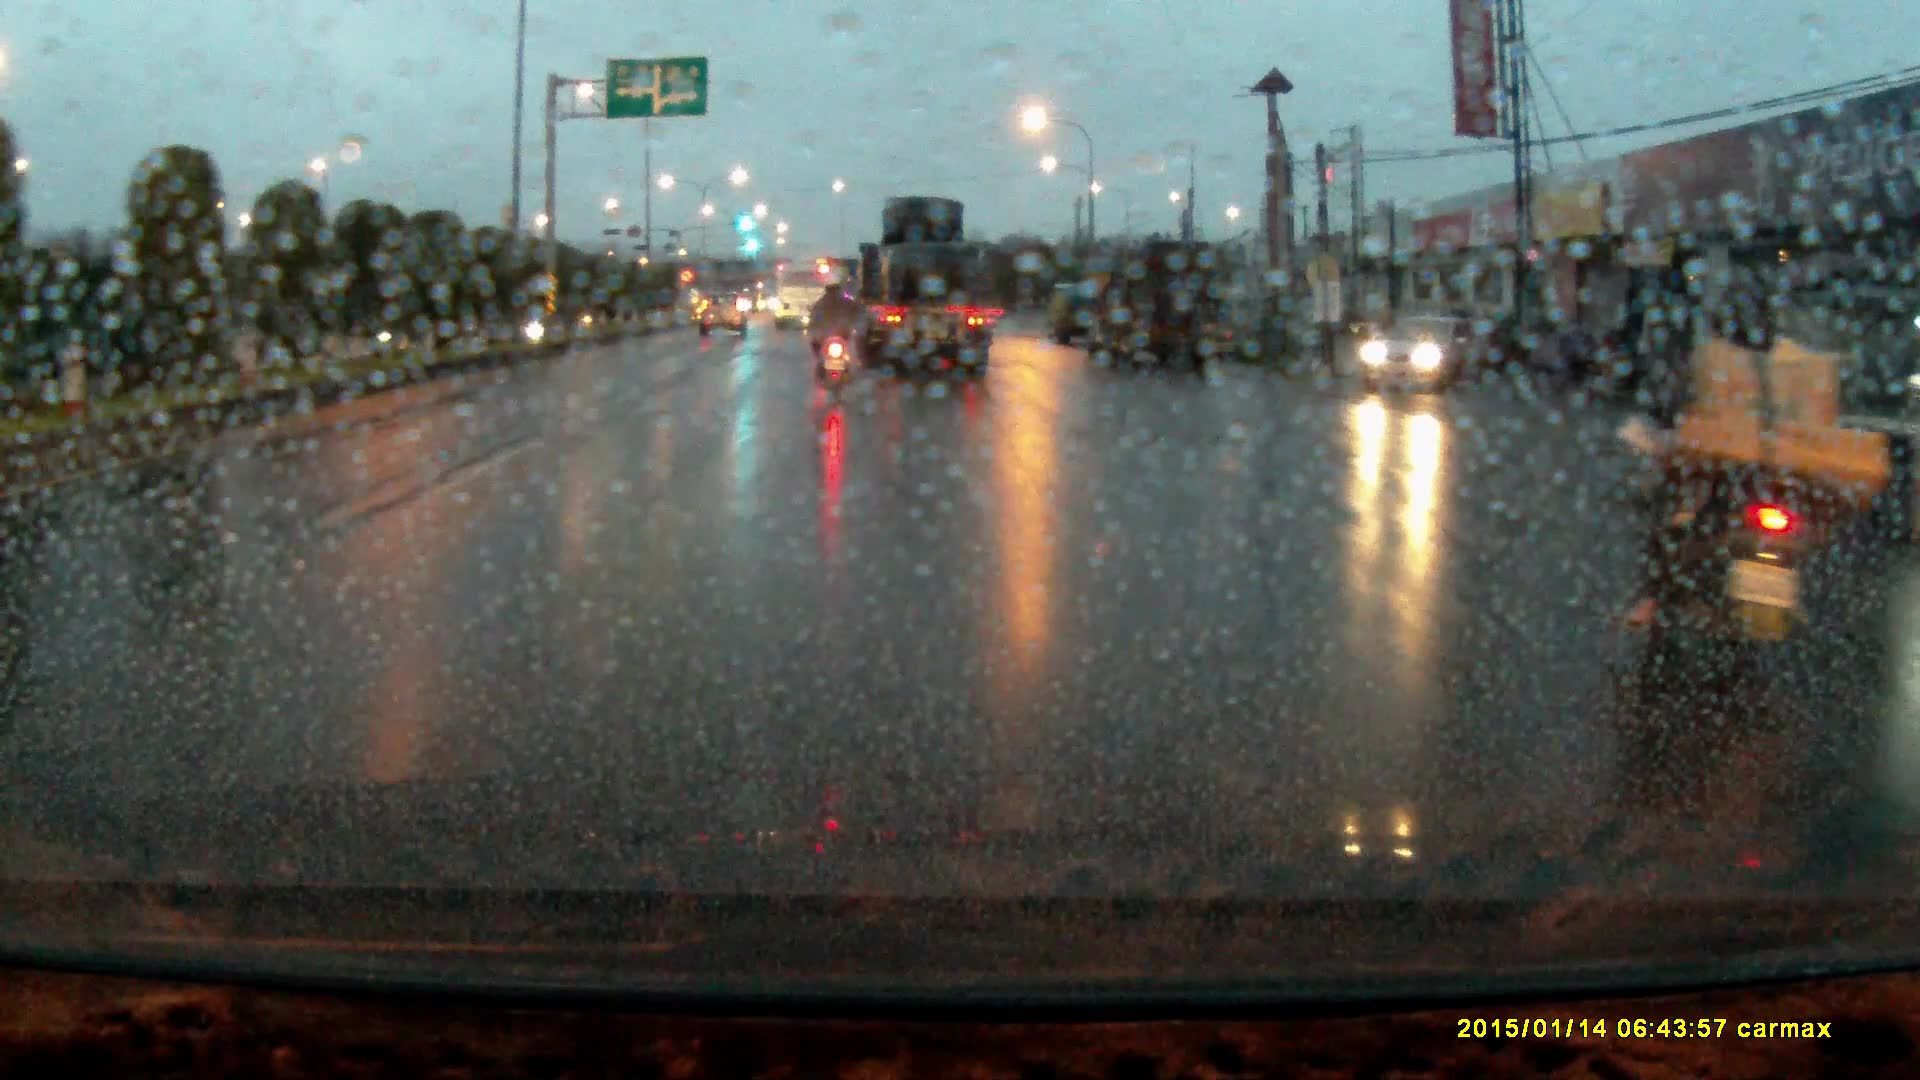rider: (1610, 249, 1899, 669), (809, 272, 865, 399)
vehicle: (849, 195, 988, 376), (1094, 237, 1235, 374), (1360, 314, 1490, 397), (776, 263, 840, 329), (1049, 281, 1100, 343), (699, 290, 750, 340)
